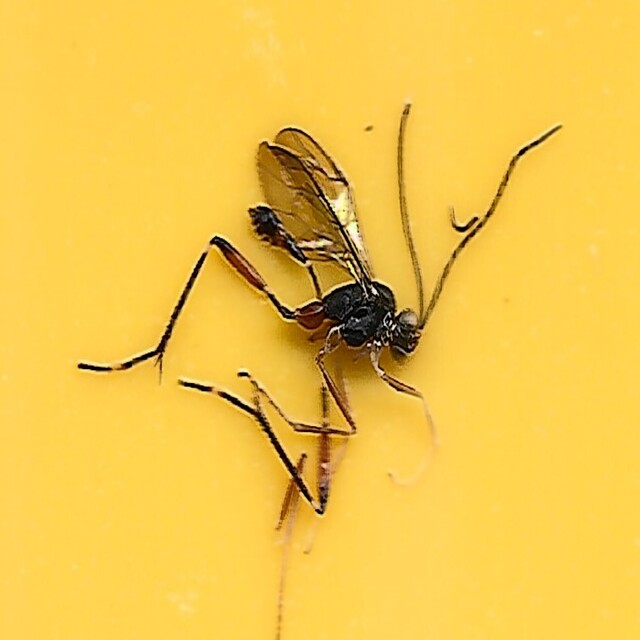Hymenoptera: (75, 117, 565, 523)
